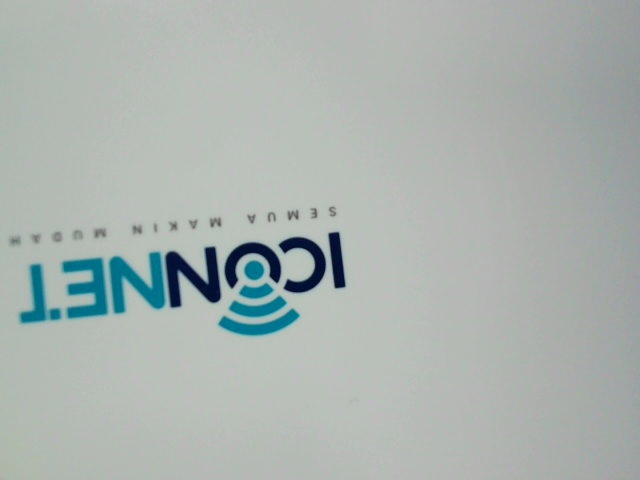BM_ICONNET: (5, 200, 374, 349)
